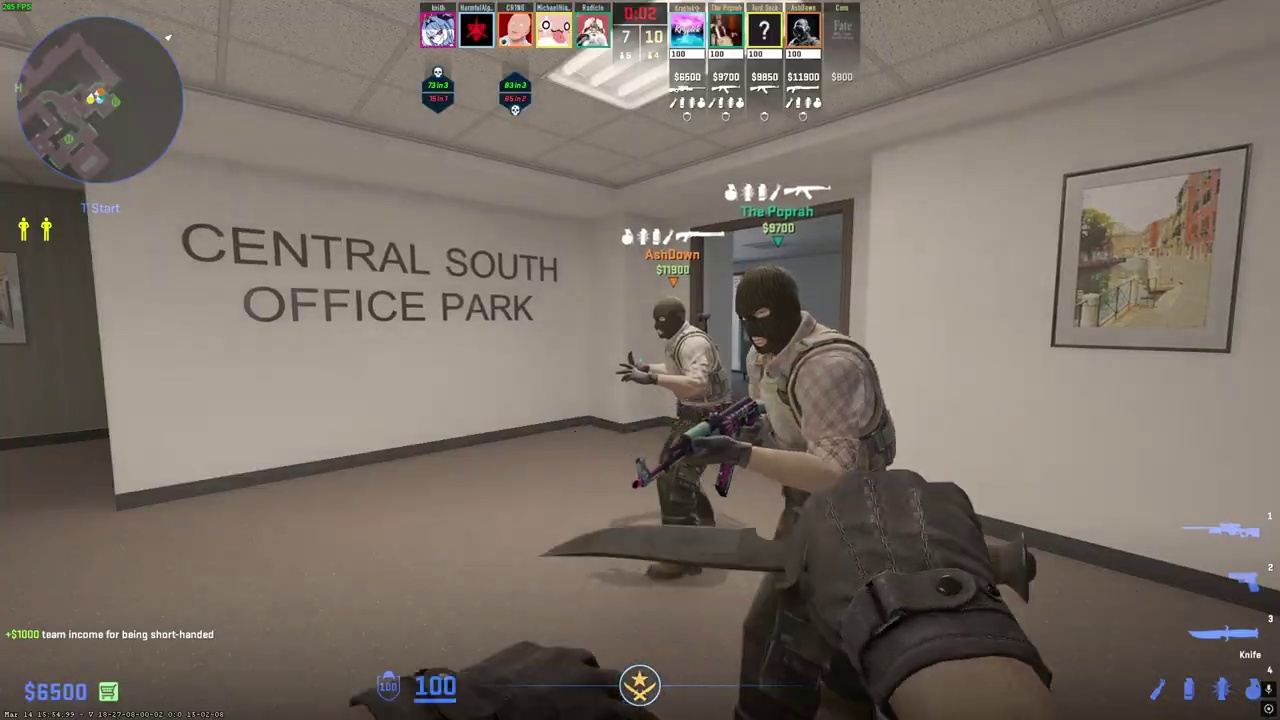Terrorist: (707, 263, 896, 719), (633, 296, 730, 582)
